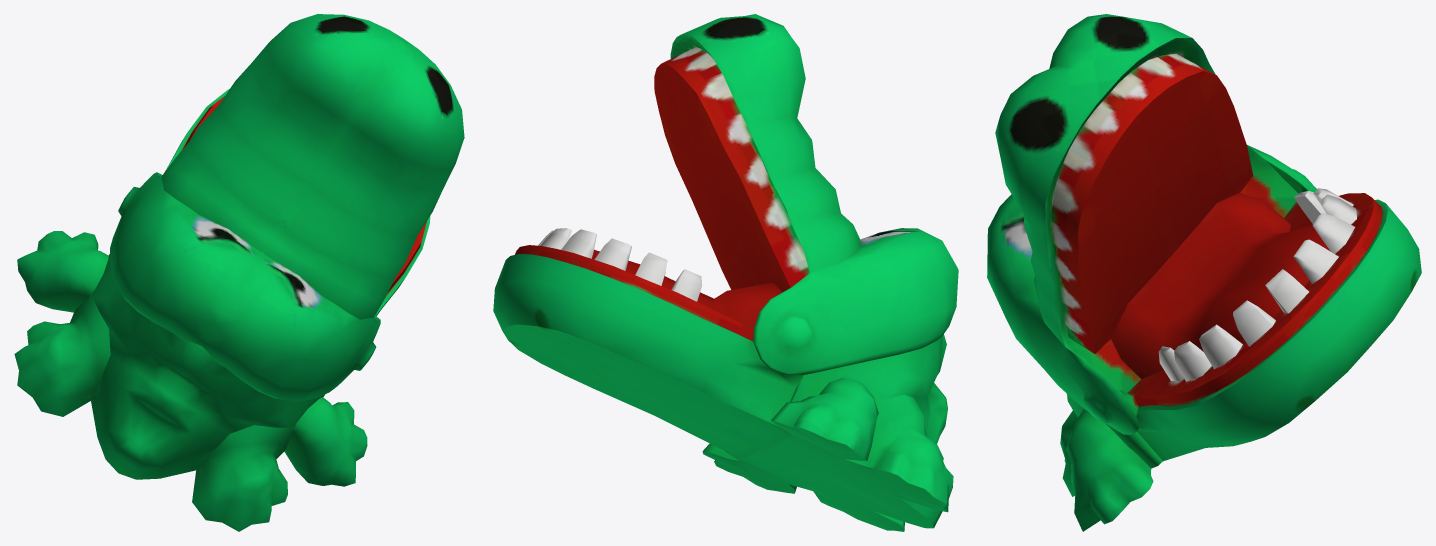
Rendered from ref_gtcrocodile.glb.
3 views of the same model, side by side, from view 1: azimuth 30°, elevation 25°; view 2: azimuth 150°, elevation 25°; view 3: azimuth 270°, elevation 25° (orthographic). The views are drawn at different scales.
Parts seen in each view (by area): view 1: ref_gtcrocodile_part0; view 2: ref_gtcrocodile_part0; view 3: ref_gtcrocodile_part0.
Part boxes in pixels (box(x1,y1,x2,y2)): ref_gtcrocodile_part0: box(14, 14, 464, 531); ref_gtcrocodile_part0: box(493, 14, 958, 531); ref_gtcrocodile_part0: box(987, 14, 1421, 531).
Bounding box in the file's own units: 0.9159 × 1 × 0.7479.
Materials: 1 (1 with a texture image).
